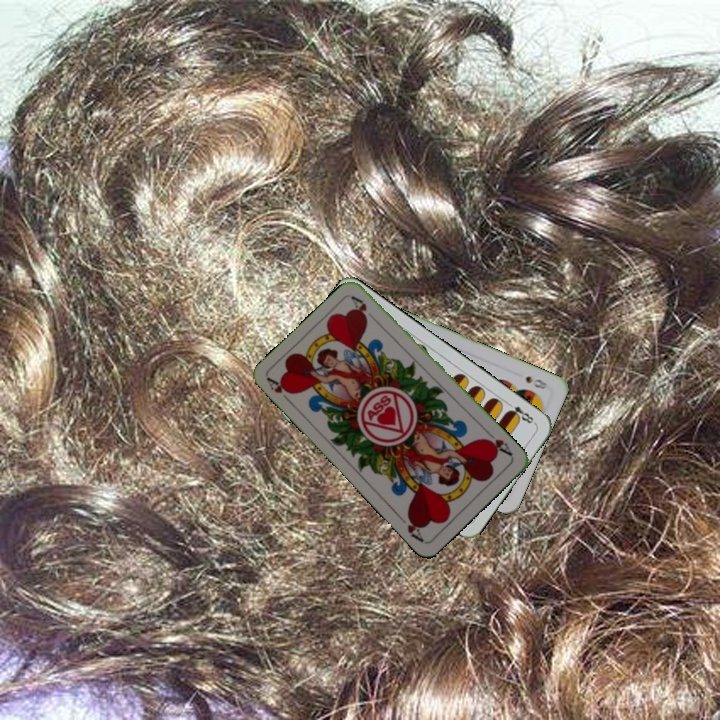E8: (503, 398, 538, 427)
HA: (263, 374, 297, 408), (480, 427, 515, 459)
S8: (521, 372, 550, 392)
